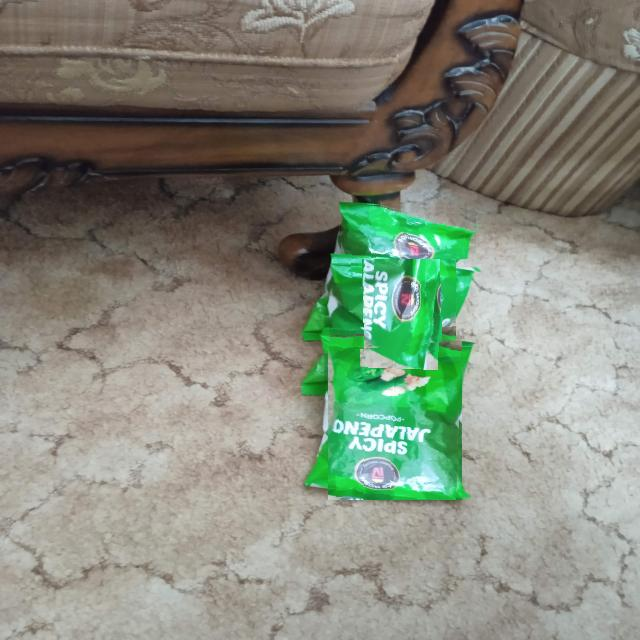Plastic: (328, 334, 462, 500), (344, 239, 456, 350), (338, 203, 476, 259)
